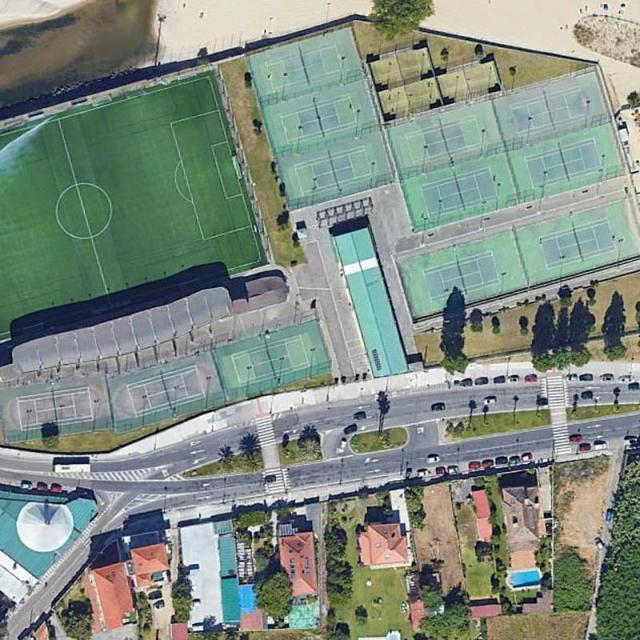vehicle: (54, 463, 92, 474), (342, 422, 358, 436), (181, 566, 200, 576), (353, 410, 367, 422), (475, 376, 490, 386), (430, 402, 446, 411), (594, 538, 605, 551), (459, 377, 472, 388), (495, 456, 509, 466), (507, 456, 521, 466), (188, 598, 202, 608), (599, 373, 614, 382), (568, 434, 583, 443), (338, 438, 346, 454), (492, 375, 506, 384), (521, 452, 532, 463), (535, 398, 550, 406), (469, 462, 482, 471), (579, 373, 593, 381), (624, 438, 638, 446), (482, 459, 494, 468), (605, 510, 612, 525), (425, 456, 440, 463), (565, 373, 578, 381), (20, 483, 34, 490), (36, 484, 50, 491), (483, 398, 497, 405), (506, 375, 520, 382), (594, 443, 606, 451), (525, 376, 538, 383), (578, 444, 591, 451), (149, 592, 162, 599), (448, 465, 458, 474), (582, 390, 592, 399), (629, 383, 639, 392), (153, 602, 164, 610), (264, 476, 276, 483), (434, 467, 444, 475), (620, 376, 632, 382), (51, 486, 62, 492), (418, 470, 429, 476)
